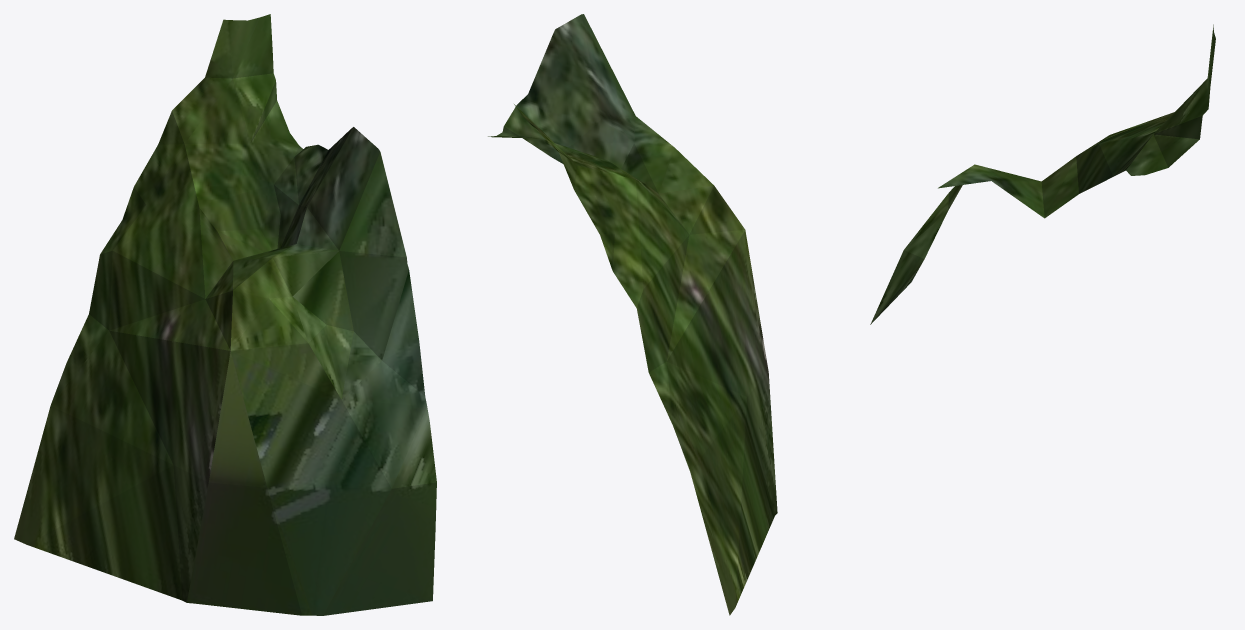
3 renders of one model, left to right at view 1: azimuth 30°, elevation 25°; view 2: azimuth 150°, elevation 25°; view 3: azimuth 270°, elevation 25°, orthographic. The views are drawn at different scales.
Size of the model in its own units: 0.4689 by 0.8374 by 0.5585.
2 materials, 2 textured.
